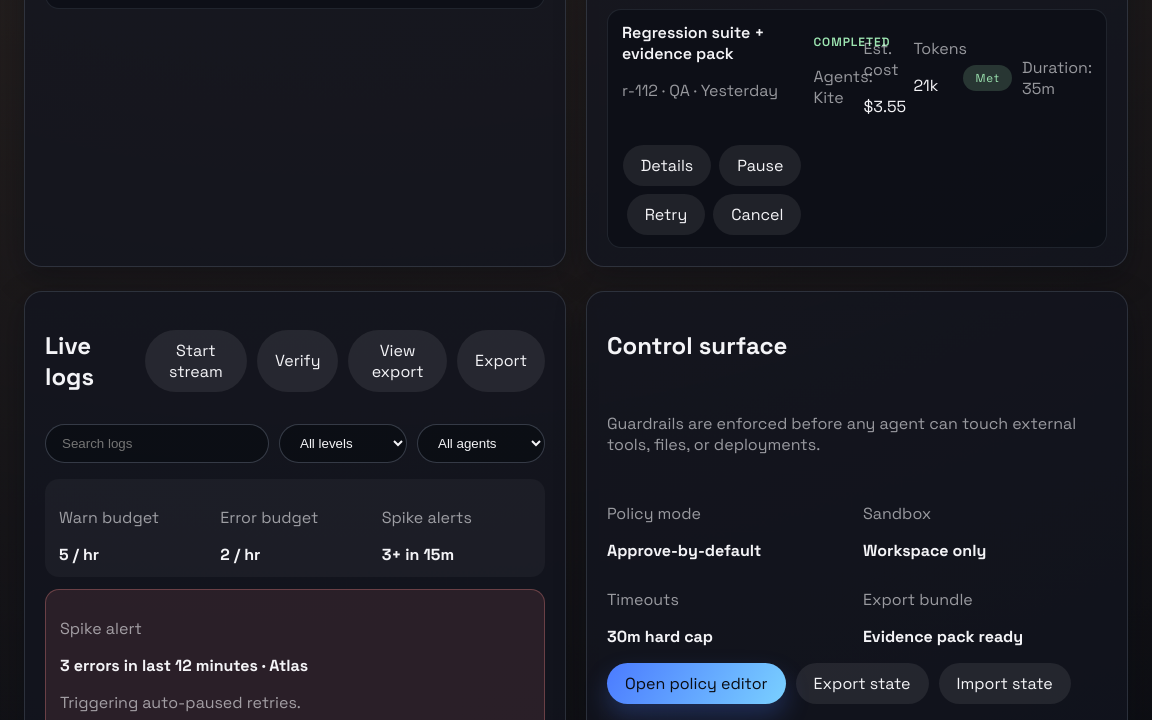
Test case: opens the evidence export viewer with schema metadata preview
(page scrolled)
Click the button "View export" at (398, 361), box [348, 330, 447, 392]
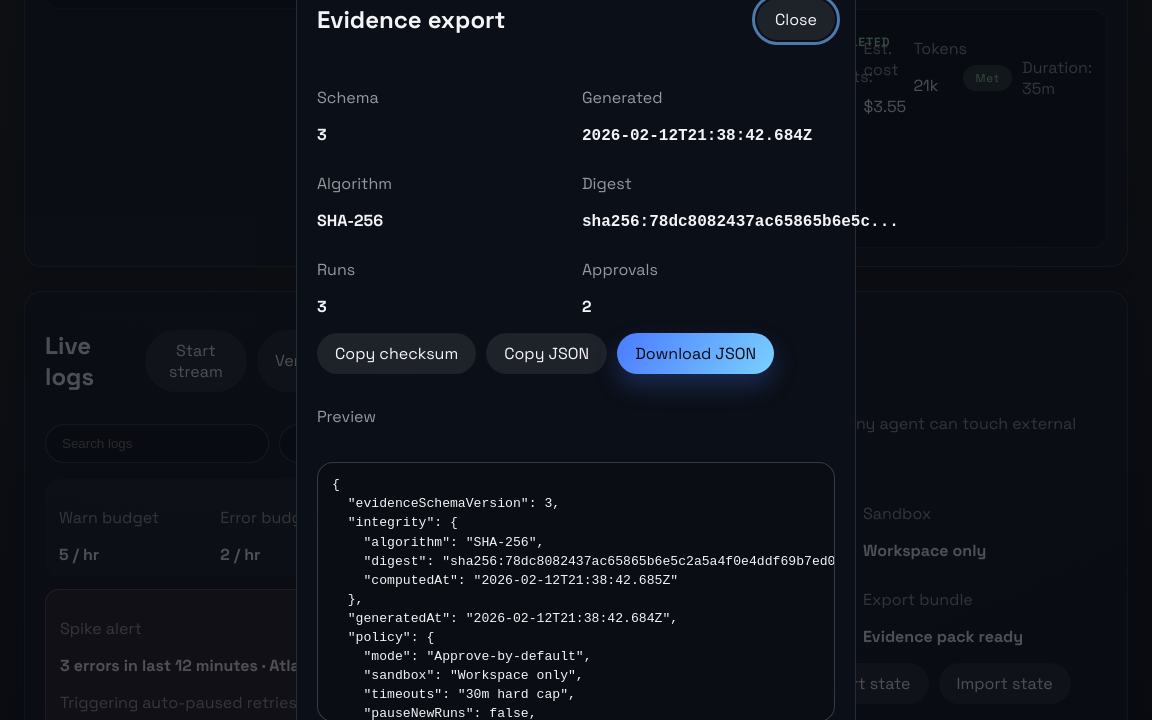
Expected: the text "Schema" is shown, [317, 87, 379, 108]
Expected: the button "Copy JSON" is shown, [486, 333, 607, 374]
Expected: the button "Download JSON" is shown, [617, 333, 774, 374]
